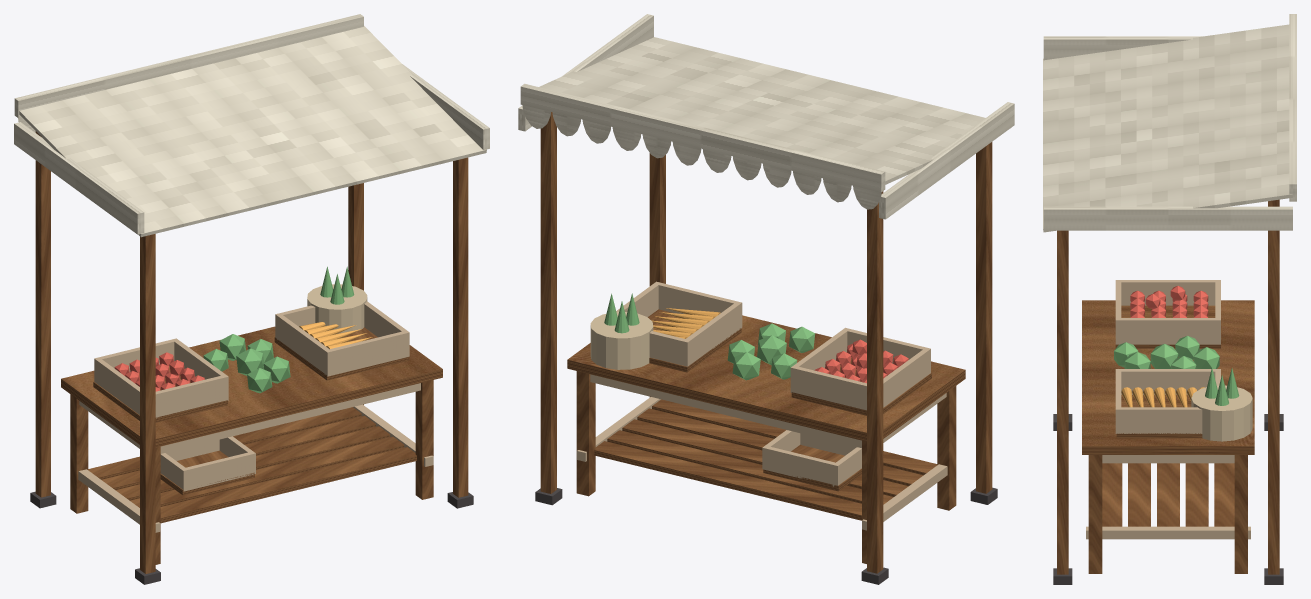
The model's file is tenda-meja-blender-v1.glb.
3 views of the same model, side by side, from view 1: azimuth 30°, elevation 25°; view 2: azimuth 150°, elevation 25°; view 3: azimuth 270°, elevation 25° (orthographic). The views are drawn at different scales.
Parts seen in each view (by area): view 1: tenda_canvas, tenda_wood, tenda_woodl, tenda_green, tenda_tan, tenda_red, tenda_orange, tenda_dark; view 2: tenda_wood, tenda_canvas, tenda_woodl, tenda_green, tenda_tan, tenda_red, tenda_orange, tenda_dark; view 3: tenda_canvas, tenda_wood, tenda_woodl, tenda_green, tenda_tan, tenda_red, tenda_orange, tenda_dark.
Boxes of the visible parts, <box> form: tenda_canvas: <box>14,14,489,237</box>; tenda_wood: <box>35,131,468,573</box>; tenda_woodl: <box>78,301,433,532</box>; tenda_green: <box>203,266,354,393</box>; tenda_tan: <box>307,284,367,333</box>; tenda_red: <box>114,352,204,391</box>; tenda_orange: <box>299,322,372,349</box>; tenda_dark: <box>30,491,473,584</box>; tenda_wood: <box>540,112,992,573</box>; tenda_canvas: <box>518,14,1014,219</box>; tenda_woodl: <box>577,281,947,530</box>; tenda_green: <box>604,293,815,380</box>; tenda_tan: <box>590,312,653,369</box>; tenda_red: <box>814,339,908,383</box>; tenda_orange: <box>652,308,720,338</box>; tenda_dark: <box>535,487,997,584</box>; tenda_canvas: <box>1043,14,1296,232</box>; tenda_wood: <box>1057,199,1279,574</box>; tenda_woodl: <box>1086,280,1250,539</box>; tenda_green: <box>1114,335,1239,405</box>; tenda_tan: <box>1191,385,1252,441</box>; tenda_red: <box>1130,286,1208,317</box>; tenda_orange: <box>1121,387,1204,407</box>; tenda_dark: <box>1053,414,1283,584</box>.
Size of the model in its own units: 2.14 by 2.33 by 1.32.
Materials: 8 (2 with a texture image).
